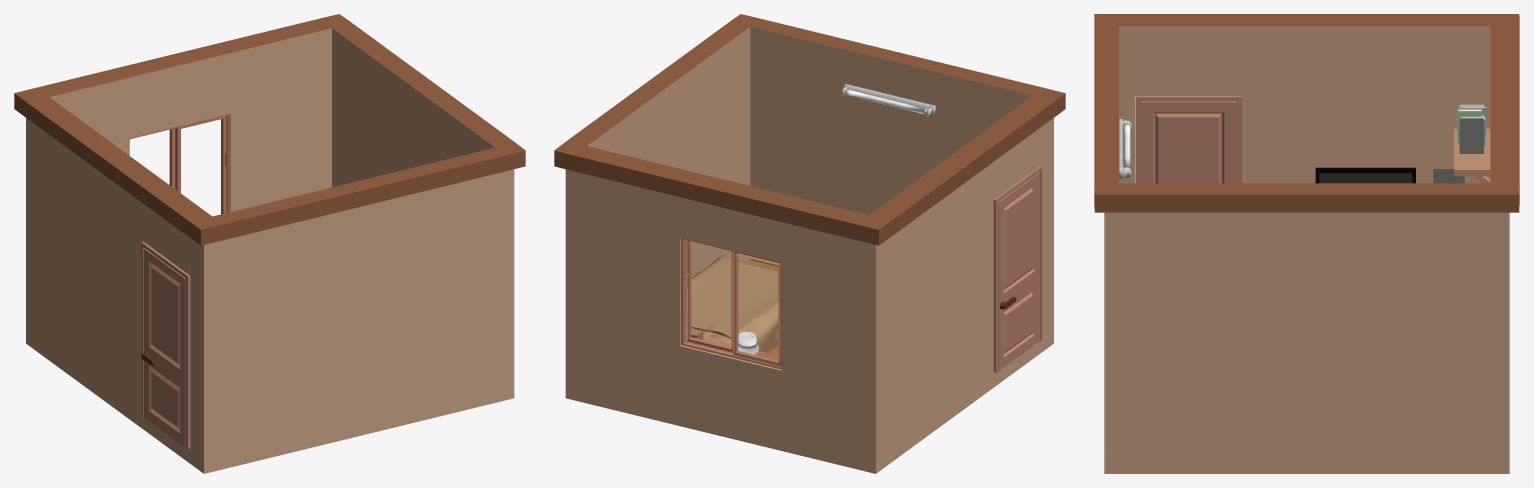
File: room.glb
3 renders of one model, left to right at view 1: azimuth 30°, elevation 25°; view 2: azimuth 150°, elevation 25°; view 3: azimuth 270°, elevation 25°, orthographic. The views are drawn at different scales.
Visible parts, largest first — view 1: Habitacion, Habitacion.001; view 2: Habitacion, Habitacion.001, sabana, Cube.001; view 3: Habitacion, Habitacion.001, Pantalla, Libros, Estanteria, Cube.001.
Boxes of the visible parts, x1,y1,x2,y2 form: Habitacion: (14,14,525,473); Habitacion.001: (141,241,190,448); Habitacion: (554,14,1065,473); Habitacion.001: (993,165,1042,372); sabana: (691,256,778,350); Cube.001: (841,84,935,116); Habitacion: (1094,14,1519,473); Habitacion.001: (1135,96,1241,183); Pantalla: (1315,167,1415,183); Libros: (1457,104,1485,153); Estanteria: (1454,128,1490,183); Cube.001: (1119,118,1131,179).
Bounding box in the file's own units: 10.54 × 7.71 × 10.49.
